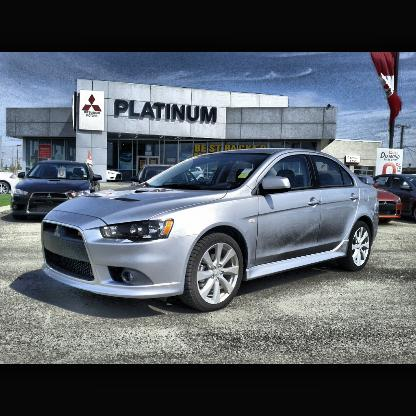Mitsubishi Lancer Sedan 2012: (42, 149, 380, 314)
